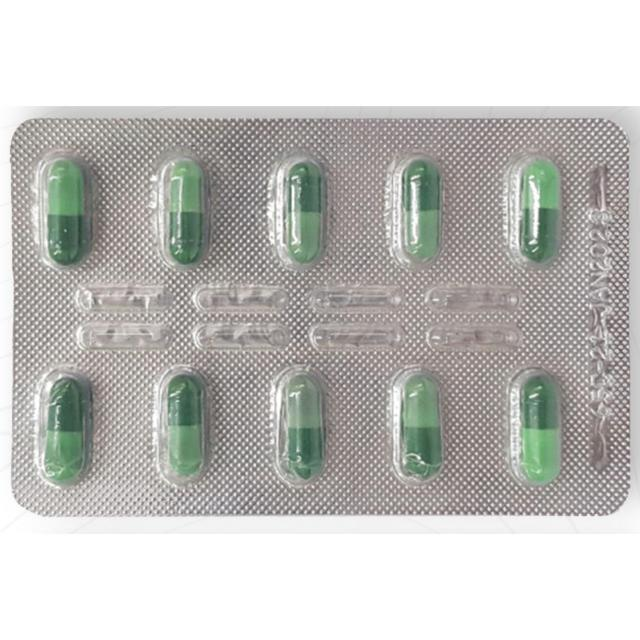blister: (8, 110, 632, 519)
